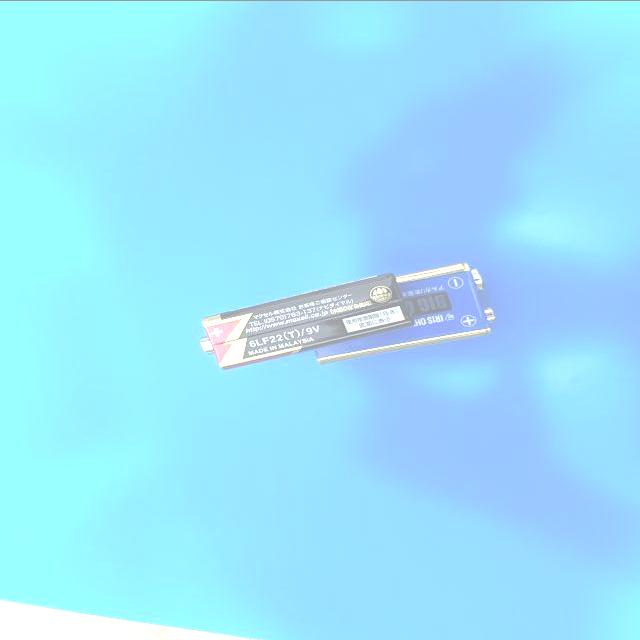9V: (196, 271, 416, 370), (313, 261, 497, 362)
